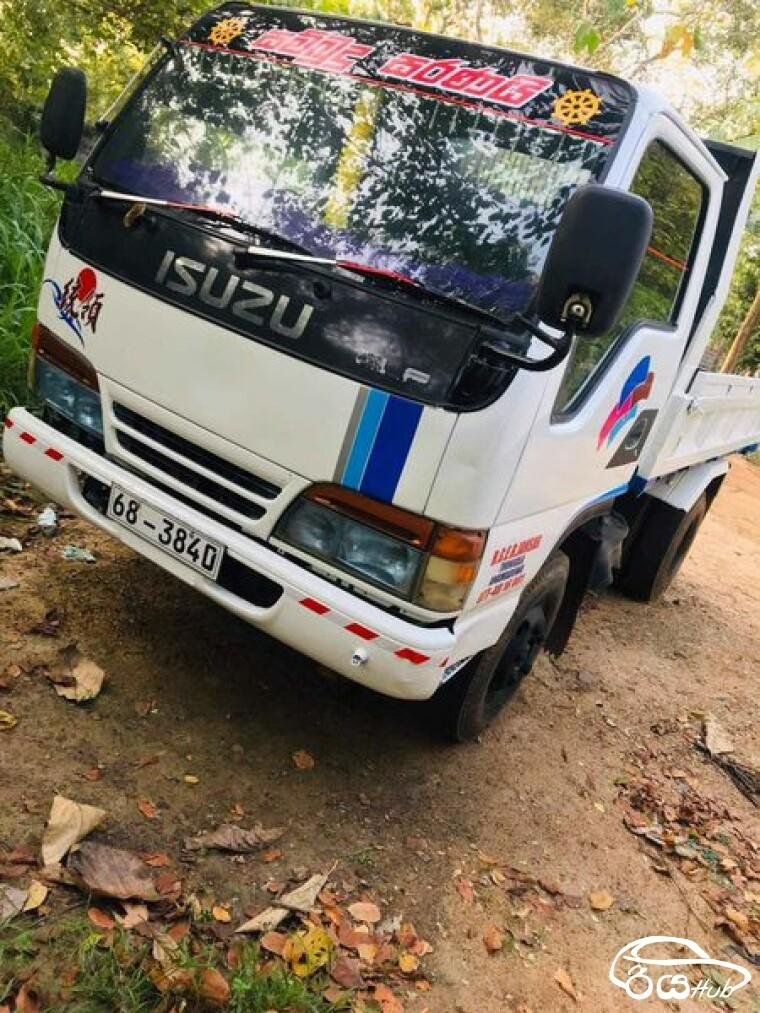truck: (2, 1, 760, 744)
